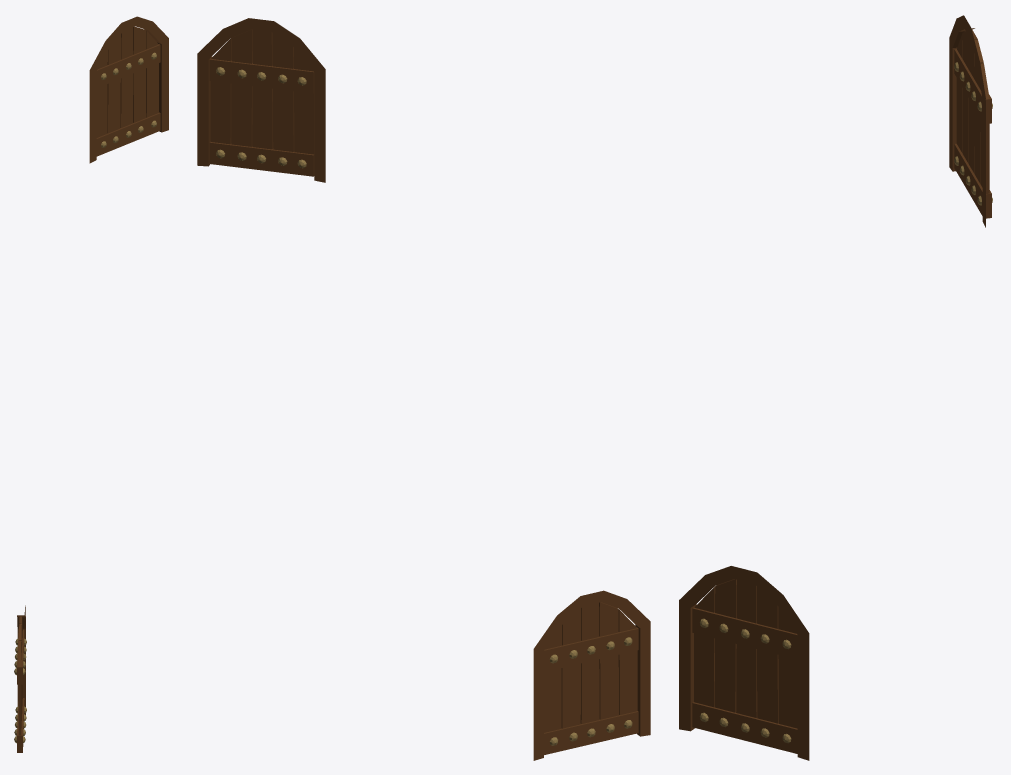
Rendered from mountain_pass_passable.glb.
3 views of the same model, side by side, from view 1: azimuth 30°, elevation 25°; view 2: azimuth 150°, elevation 25°; view 3: azimuth 270°, elevation 25° (orthographic). The views are drawn at different scales.
Parts seen in each view (by area): view 1: Turret.FrontLeft.Door3.Passable.001, Turret.FrontLeft.Door1.Passable.001, Turret.FrontLeft.Door1Studs.Passable.001, Turret.FrontLeft.Door3Studs.Passable.001; view 2: Turret.FrontLeft.Door3.Passable.001, Turret.FrontLeft.Door1.Passable.001; view 3: Turret.FrontLeft.Door1.Passable.001, Turret.FrontLeft.Door3.Passable.001, Turret.FrontLeft.Door1Studs.Passable.001.
Part boxes in pixels (x1,y1,x2,y2): Turret.FrontLeft.Door3.Passable.001: (89,16,168,163); Turret.FrontLeft.Door1.Passable.001: (17,605,25,752); Turret.FrontLeft.Door1Studs.Passable.001: (14,638,26,743); Turret.FrontLeft.Door3Studs.Passable.001: (101,52,156,147); Turret.FrontLeft.Door3.Passable.001: (197,18,325,182); Turret.FrontLeft.Door1.Passable.001: (533,590,650,760); Turret.FrontLeft.Door1.Passable.001: (679,566,809,760); Turret.FrontLeft.Door3.Passable.001: (949,15,991,227); Turret.FrontLeft.Door1Studs.Passable.001: (699,618,791,743).
Bounding box in the file's own units: 0.9171 × 2.05 × 0.6961.
